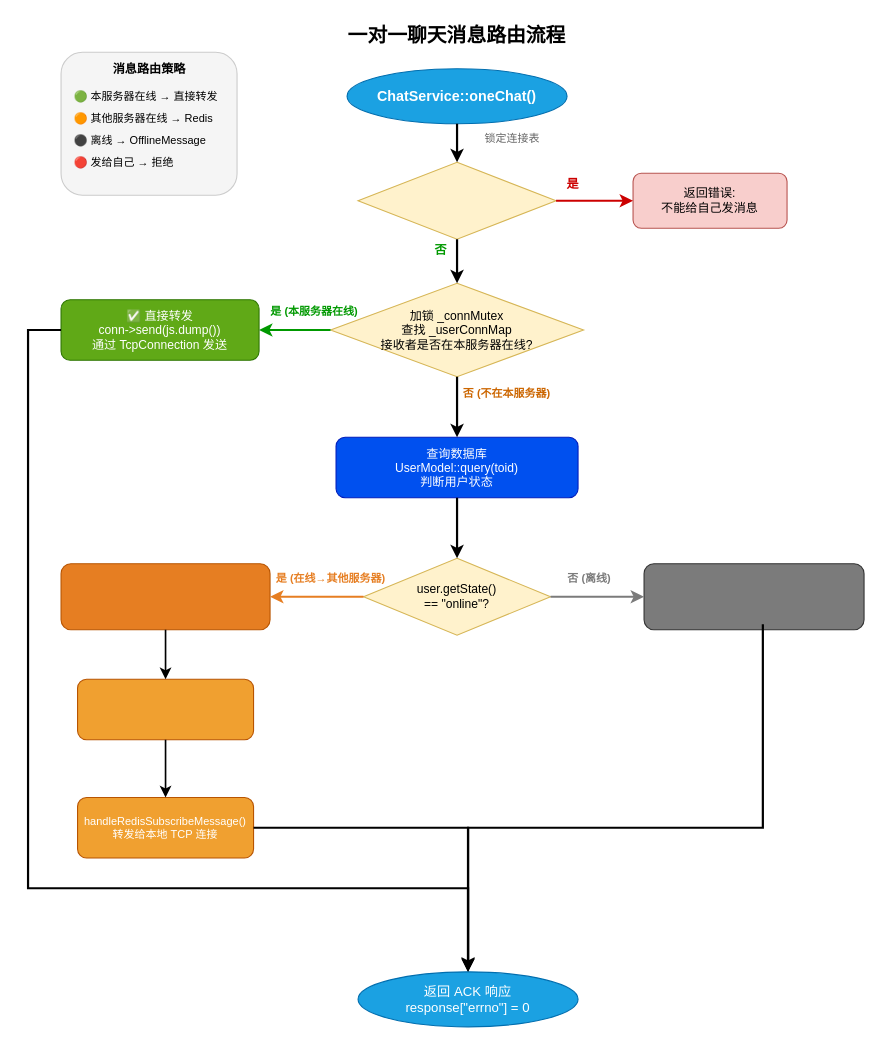
Image size: 883x1046. Some labels were removed from this diagram. Here are the shapes that lost their labels. From the top down, the centre of each, then its label:
[456,200]: toid == id ? 是否发给自己?
[165,596]: 🔄 Redis 发布 _redis.publish(toid, msg) 跨服务器转发 (集群)
[753,596]: 💾 存入离线消息表 OfflineMessageModel::insert() 用户下次登录时拉取
[165,709]: 目标服务器 observeChannelMessage() 接收订阅消息
